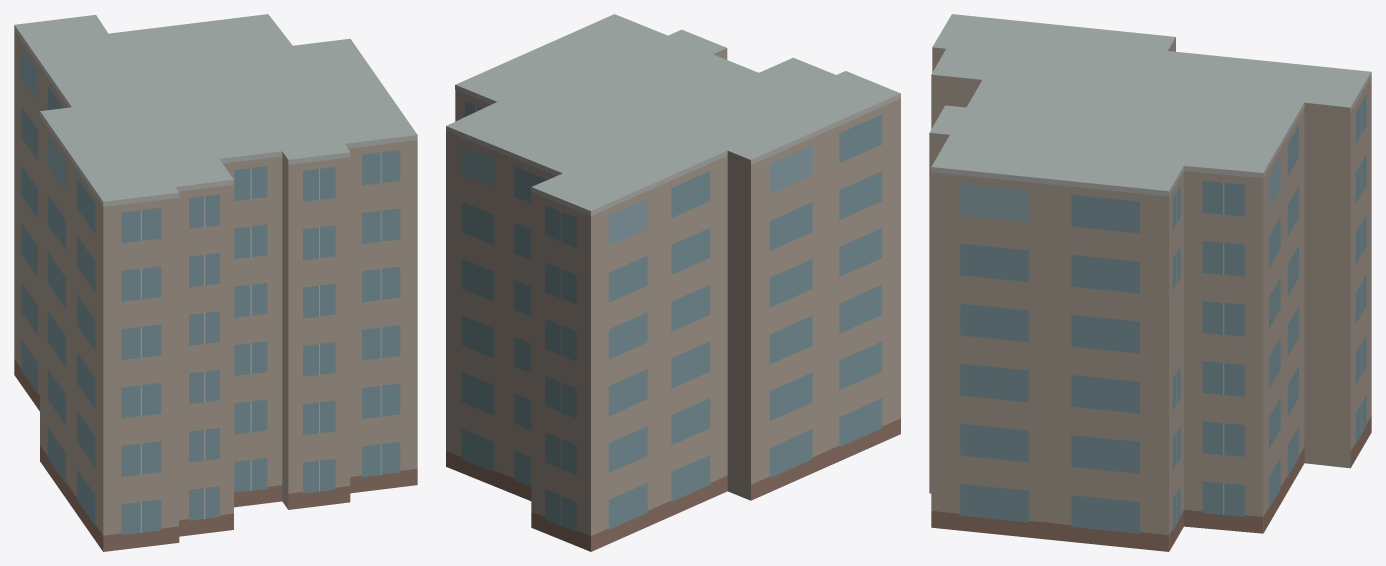
File: survey-upis-32725760.glb
3 views of the same model, side by side, from view 1: azimuth 30°, elevation 25°; view 2: azimuth 150°, elevation 25°; view 3: azimuth 270°, elevation 25° (orthographic). The views are drawn at different scales.
Parts seen in each view (by area): view 1: survey-upis-32725760.tmp; view 2: survey-upis-32725760.tmp; view 3: survey-upis-32725760.tmp.
Boxes of the visible parts, x1,y1,x2,y2 form: survey-upis-32725760.tmp: (14,14,417,551); survey-upis-32725760.tmp: (446,14,900,551); survey-upis-32725760.tmp: (929,14,1371,551).
Size of the model in its own units: 17.61 by 16.7 by 18.56.
